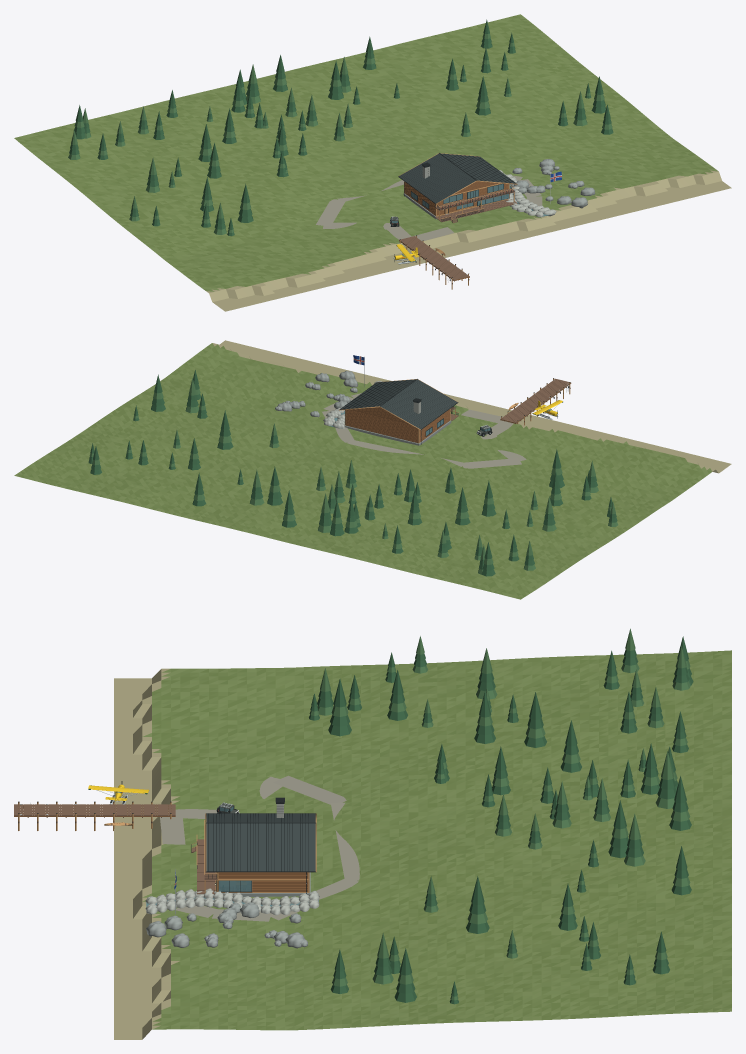
Rendered from northbound.glb.
3 views of the same model, one above another, from view 1: azimuth 30°, elevation 25°; view 2: azimuth 150°, elevation 25°; view 3: azimuth 270°, elevation 25° (orthographic). The views are drawn at different scales.
Parts seen in each view (by area): view 1: Meadow terrain, Landscape / Pine needles, Landscape / Sunlit needles, Landscape / Charcoal standing seam roof, Landscape / Weathered deck, Landscape / Rubber and cabin trim, Landscape / Gravel road, Landscape / Granite, Landscape / Fresh cedar edges, Landscape / Honey cedar, Landscape / Granite highlights, Landscape / Lake blue glazing; view 2: Meadow terrain, Landscape / Pine needles, Landscape / Sunlit needles, Landscape / Charcoal standing seam roof, Landscape / Honey cedar, Landscape / Gravel road, Landscape / Rubber and cabin trim, Landscape / Granite, Landscape / Weathered deck, Landscape / Fresh cedar edges, Landscape / Granite highlights; view 3: Meadow terrain, Landscape / Pine needles, Landscape / Sunlit needles, Landscape / Charcoal standing seam roof, Landscape / Gravel road, Landscape / Granite highlights, Landscape / Weathered deck, Landscape / Granite, Landscape / Rubber and cabin trim, Landscape / Honey cedar, Landscape / Fresh cedar edges.
Part boxes in pixels (x1,y1,x2,y2): Meadow terrain: [14, 14, 731, 311]; Landscape / Pine needles: [69, 19, 613, 236]; Landscape / Sunlit needles: [68, 33, 612, 234]; Landscape / Charcoal standing seam roof: [399, 153, 516, 203]; Landscape / Weathered deck: [399, 188, 517, 284]; Landscape / Rubber and cabin trim: [398, 153, 515, 280]; Landscape / Gravel road: [316, 175, 542, 241]; Landscape / Granite: [403, 159, 595, 219]; Landscape / Fresh cedar edges: [398, 153, 517, 289]; Landscape / Honey cedar: [399, 181, 508, 281]; Landscape / Granite highlights: [422, 166, 556, 217]; Landscape / Lake blue glazing: [411, 184, 549, 216]; Meadow terrain: [14, 340, 731, 599]; Landscape / Pine needles: [88, 370, 617, 576]; Landscape / Sunlit needles: [89, 378, 618, 574]; Landscape / Charcoal standing seam roof: [340, 379, 457, 429]; Landscape / Honey cedar: [346, 383, 571, 442]; Landscape / Gravel road: [322, 393, 526, 468]; Landscape / Rubber and cabin trim: [340, 378, 570, 444]; Landscape / Granite: [275, 370, 451, 445]; Landscape / Weathered deck: [450, 378, 570, 422]; Landscape / Fresh cedar edges: [339, 378, 570, 443]; Landscape / Granite highlights: [323, 381, 420, 428]; Meadow terrain: [114, 650, 731, 1039]; Landscape / Pine needles: [309, 636, 693, 1004]; Landscape / Sunlit needles: [309, 628, 690, 1000]; Landscape / Charcoal standing seam roof: [206, 813, 315, 871]; Landscape / Gravel road: [160, 775, 359, 921]; Landscape / Granite highlights: [145, 804, 319, 915]; Landscape / Weathered deck: [14, 804, 252, 894]; Landscape / Granite: [146, 872, 310, 948]; Landscape / Rubber and cabin trim: [18, 797, 315, 893]; Landscape / Honey cedar: [14, 805, 307, 891]; Landscape / Fresh cedar edges: [18, 802, 316, 892].
Size of the model in its own units: 180 by 19.71 by 151.
